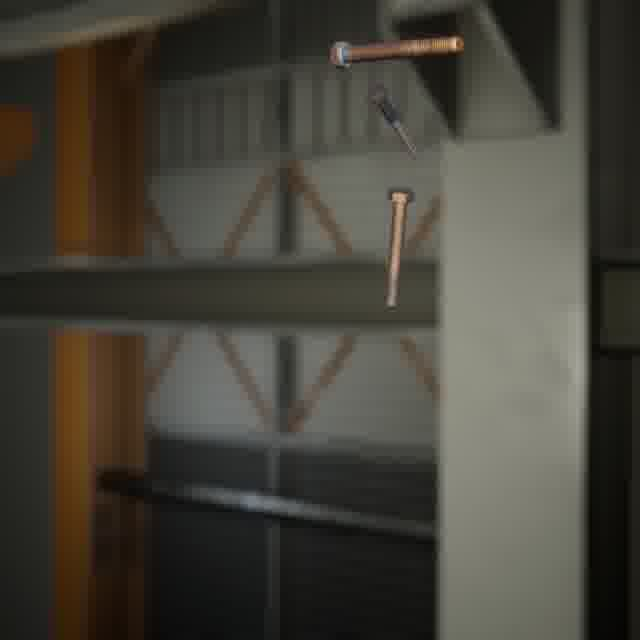bolt: (325, 32, 468, 73), (361, 80, 423, 163), (380, 183, 418, 311)
